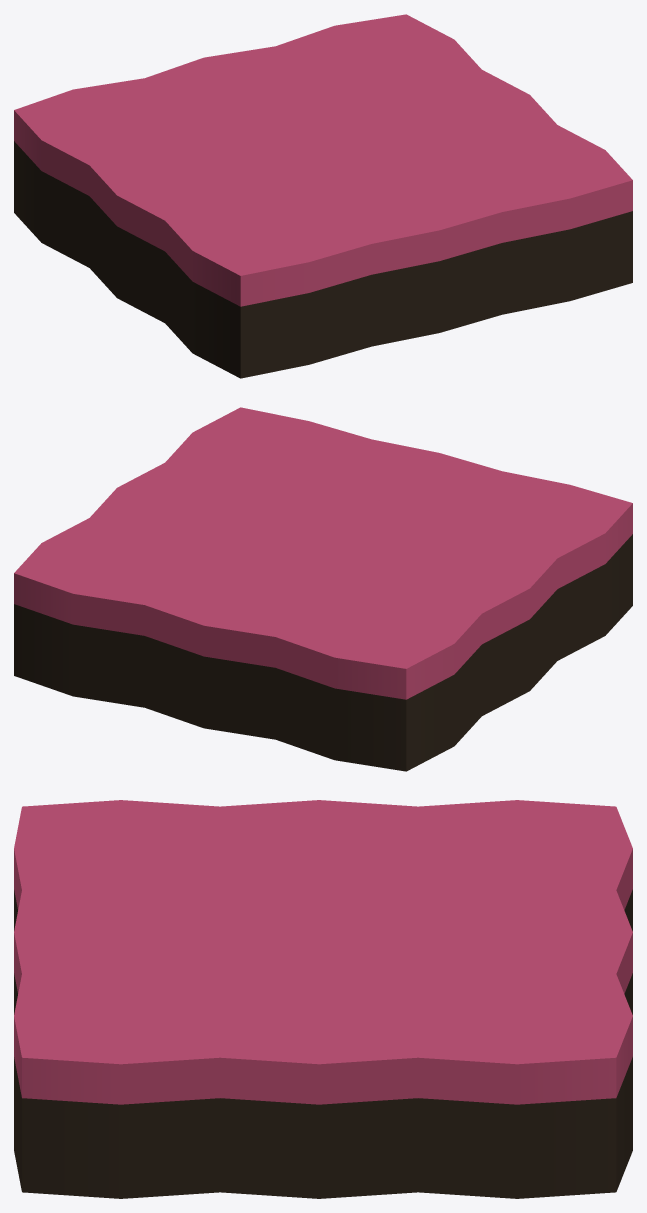
File: jaggeredTile-22b_col_001.fbx
3 views of the same model, one above another, from view 1: azimuth 30°, elevation 25°; view 2: azimuth 150°, elevation 25°; view 3: azimuth 270°, elevation 25° (orthographic). The views are drawn at different scales.
Parts seen in each view (by area): view 1: jaggeredTile-22b.col.001; view 2: jaggeredTile-22b.col.001; view 3: jaggeredTile-22b.col.001.
Boxes of the visible parts, x1,y1,x2,y2 form: jaggeredTile-22b.col.001: (14, 14, 632, 378); jaggeredTile-22b.col.001: (14, 407, 632, 771); jaggeredTile-22b.col.001: (14, 800, 632, 1198).
Bounding box in the file's own units: 2.1 × 0.5 × 2.08.
Materials: 1 (1 with a texture image).
